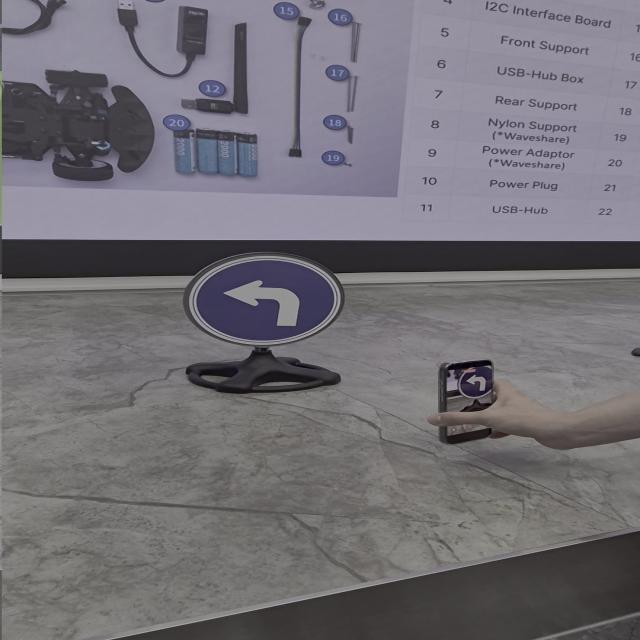left_direction: (172, 242, 373, 360)
